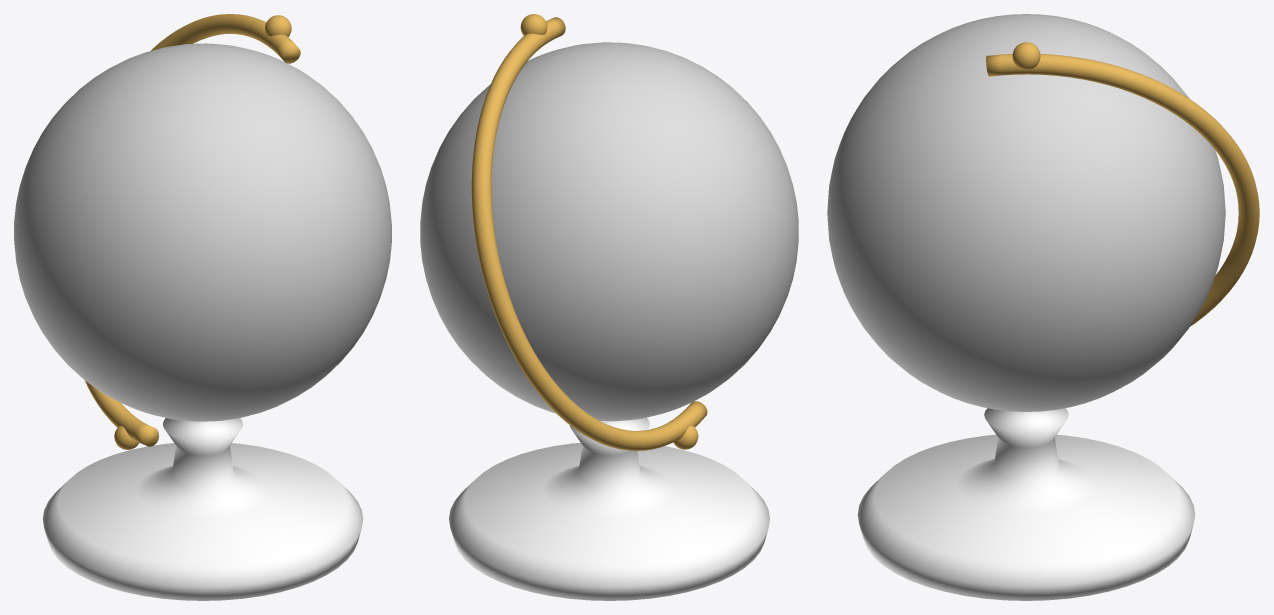
File: decor_globe.glb
The picture shows the model from 3 angles, left to right: view 1: azimuth 30°, elevation 25°; view 2: azimuth 150°, elevation 25°; view 3: azimuth 270°, elevation 25°; orthographic projection. The views are drawn at different scales.
Parts seen in each view (by area): view 1: Gl4_Sphere.001, Gl4_Stand.001, Gl4_Meridian.001; view 2: Gl4_Sphere.001, Gl4_Stand.001, Gl4_Meridian.001; view 3: Gl4_Sphere.001, Gl4_Stand.001, Gl4_Meridian.001, Gl4_PinTop.001.
Part boxes in pixels (left/top/right/bottom): Gl4_Sphere.001: left=14, top=43, right=391, bottom=421; Gl4_Stand.001: left=42, top=418, right=363, bottom=600; Gl4_Meridian.001: left=85, top=14, right=300, bottom=446; Gl4_Sphere.001: left=420, top=42, right=798, bottom=421; Gl4_Stand.001: left=449, top=417, right=769, bottom=600; Gl4_Meridian.001: left=471, top=17, right=707, bottom=450; Gl4_Sphere.001: left=827, top=14, right=1225, bottom=411; Gl4_Stand.001: left=857, top=408, right=1195, bottom=600; Gl4_Meridian.001: left=986, top=54, right=1259, bottom=326; Gl4_PinTop.001: left=1012, top=42, right=1040, bottom=70.
Bounding box in the file's own units: 0.17 × 0.2481 × 0.1845.
